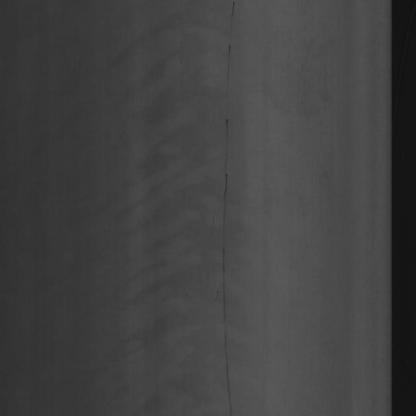inclusion: (212, 7, 246, 406)
